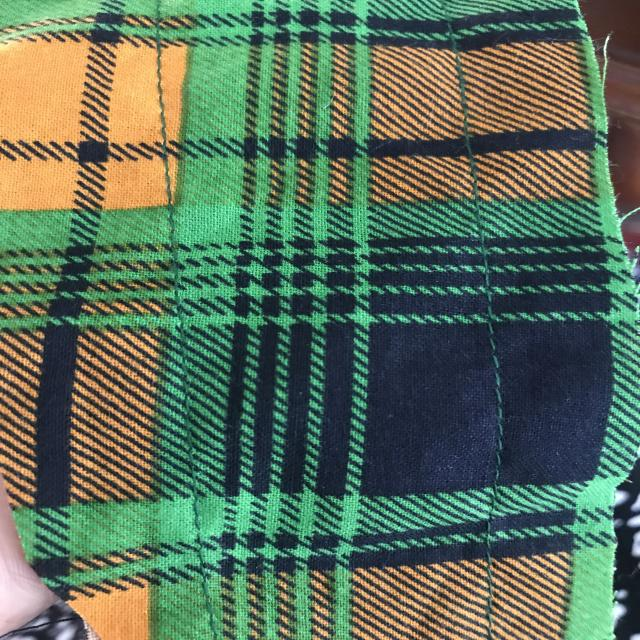good: (470, 343, 526, 434)
